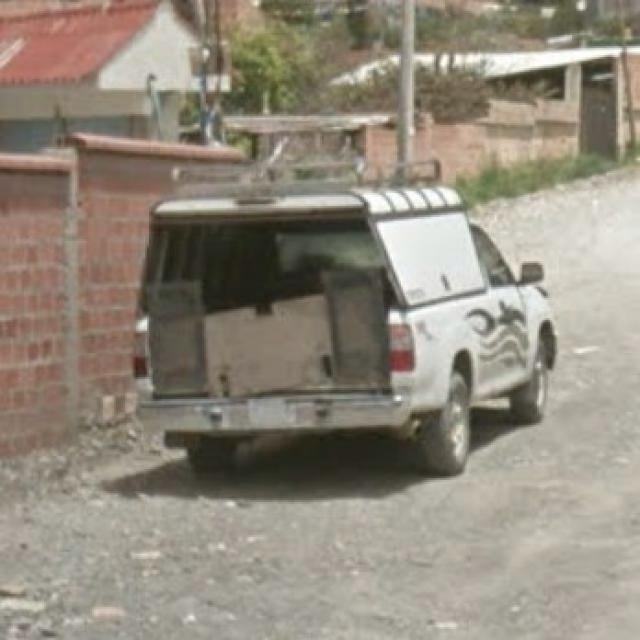Car: (140, 168, 556, 474)
